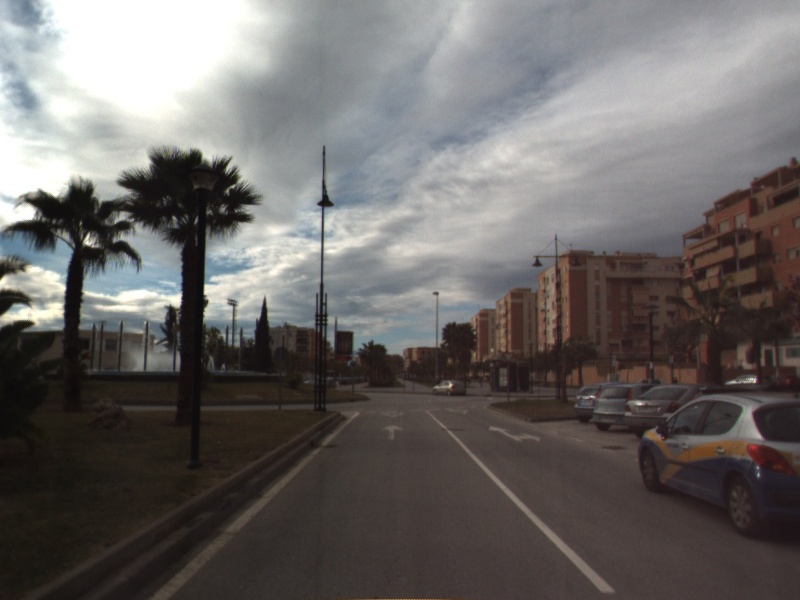STRAIGHT: (380, 422, 404, 442)
STRAIGHT_RIGHT: (487, 424, 542, 443)
